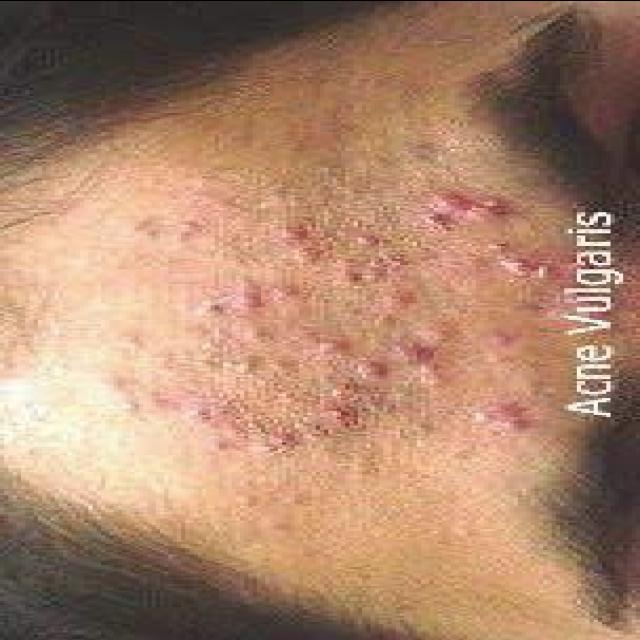Acne: (411, 188, 518, 232), (336, 250, 412, 284), (490, 254, 570, 282), (471, 400, 537, 432), (387, 336, 445, 368), (307, 400, 363, 430), (224, 273, 266, 312), (266, 220, 320, 244), (347, 358, 392, 381), (480, 327, 520, 348), (260, 428, 298, 450), (309, 334, 347, 356), (270, 280, 302, 304), (348, 232, 388, 248)
